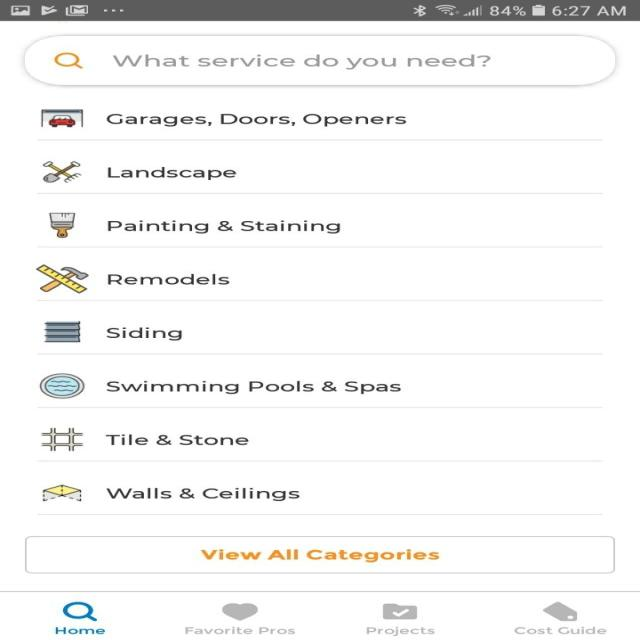EditText: (24, 36, 615, 85)
Icon: (541, 601, 577, 621), (62, 601, 98, 621), (221, 602, 258, 620), (382, 603, 417, 620), (54, 52, 84, 69)
Image: (36, 264, 90, 294), (39, 372, 85, 398), (40, 426, 84, 451), (42, 161, 82, 183), (43, 320, 81, 342), (41, 109, 84, 128), (48, 212, 76, 238), (42, 484, 82, 501)
Text: (111, 54, 491, 70), (106, 380, 401, 394), (106, 114, 407, 127), (107, 220, 340, 233), (106, 488, 300, 501), (106, 166, 236, 180), (105, 434, 249, 444), (106, 274, 230, 284), (106, 327, 182, 341), (184, 626, 295, 634), (512, 626, 606, 634), (365, 626, 435, 636), (54, 626, 104, 634)
TextButton: (24, 536, 614, 574)
